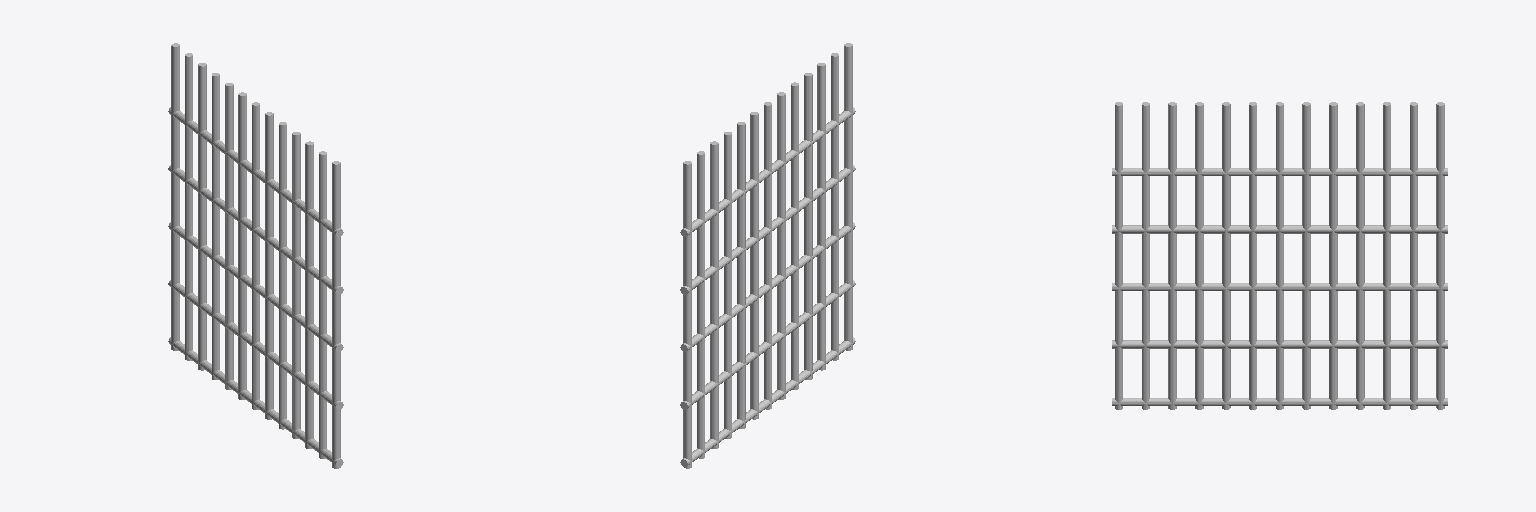
Rendered from bars.obj.
3 renders of one model, left to right at view 1: azimuth 30°, elevation 25°; view 2: azimuth 150°, elevation 25°; view 3: azimuth 270°, elevation 25°, orthographic.
Bounding box in the file's own units: 0.1116 × 4.35 × 4.35.